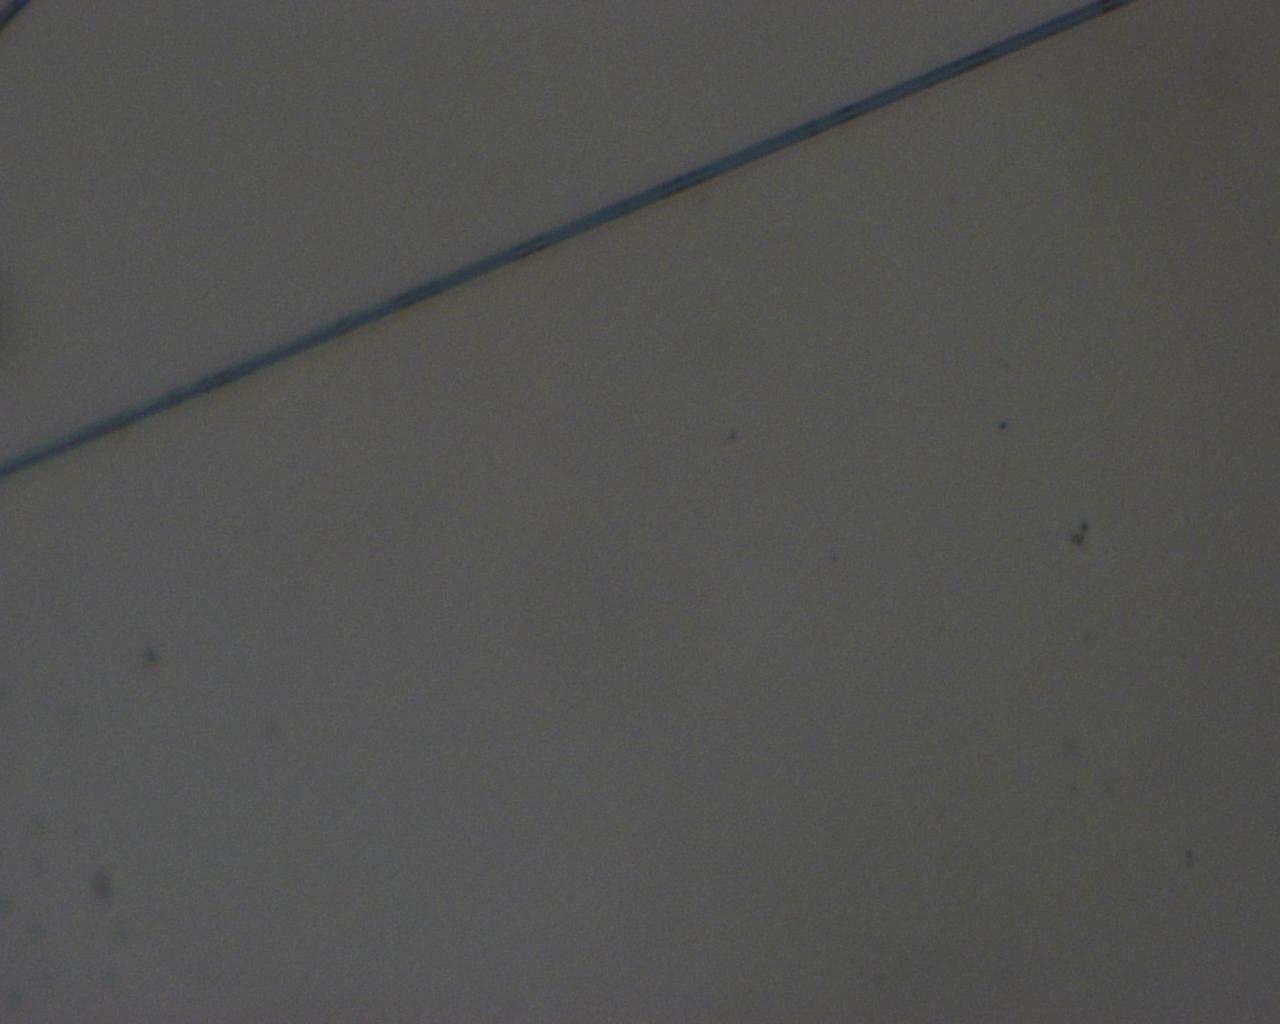fiber: (0, 0, 1144, 482)
